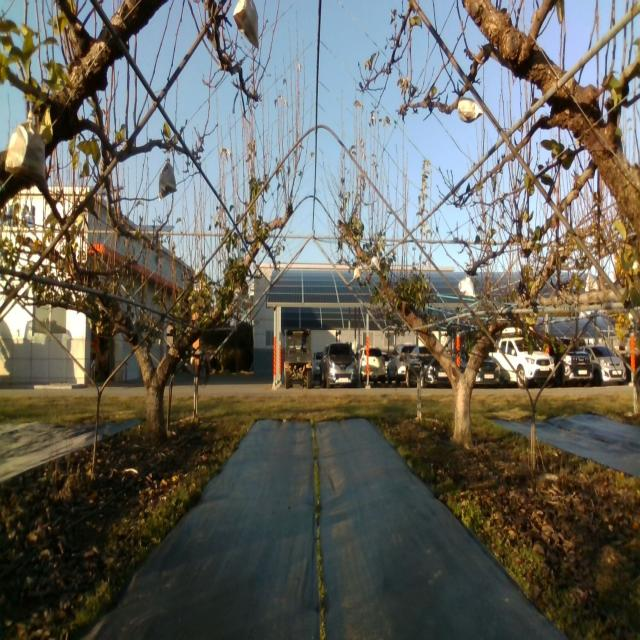pearbags: (4, 117, 46, 180), (232, 0, 260, 48), (159, 156, 178, 200), (458, 96, 483, 124), (458, 276, 476, 298)
